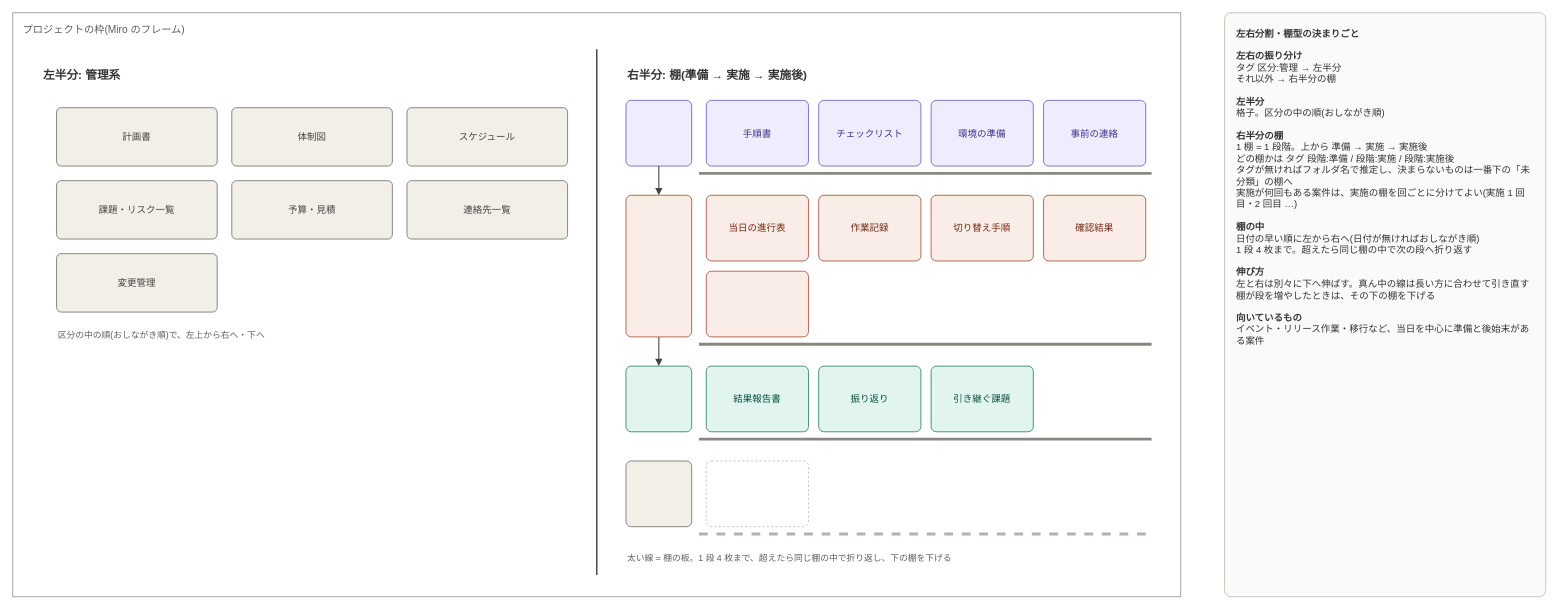
The diagram is 1559 pixels wide and 610 high, and some of its shapes have lost their labels. The centre of each missing label's shape, as x and y in pixels:
"実施" goes at point (658, 266).
"実施後" goes at point (658, 398).
"未分類" goes at point (658, 493).
"準備" goes at point (658, 133).
"障害対応メモ" goes at point (757, 303).
